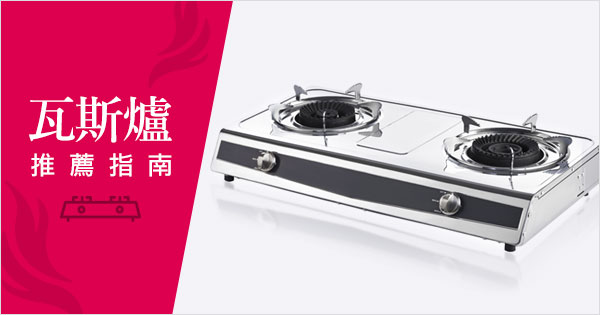gasoven: (208, 79, 599, 259)
